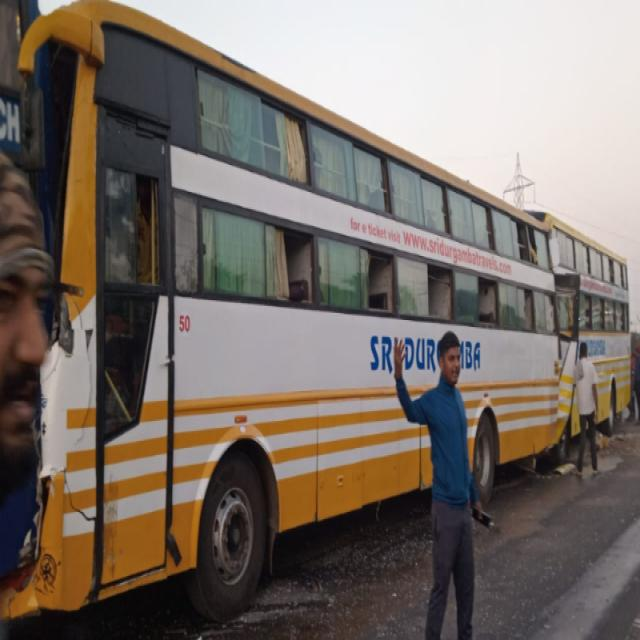bus: (0, 0, 561, 619), (529, 209, 630, 453)
